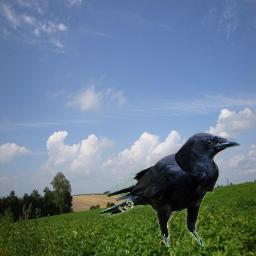Crow: (97, 132, 243, 247)
